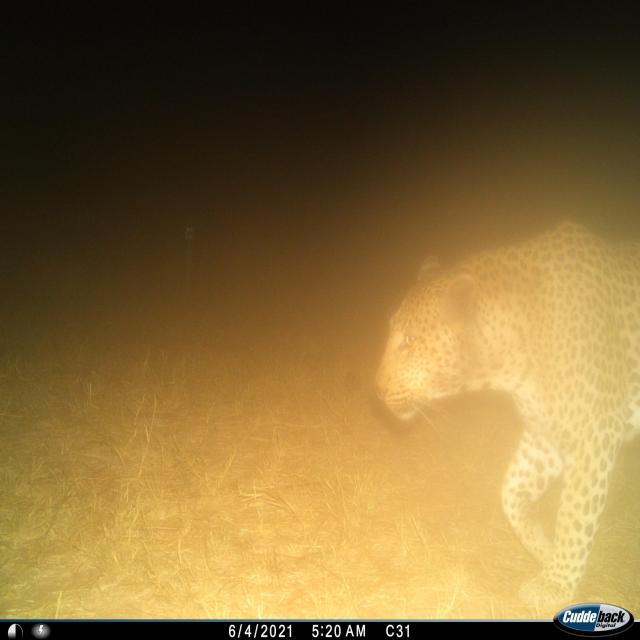Leopard: (373, 177, 640, 625)
